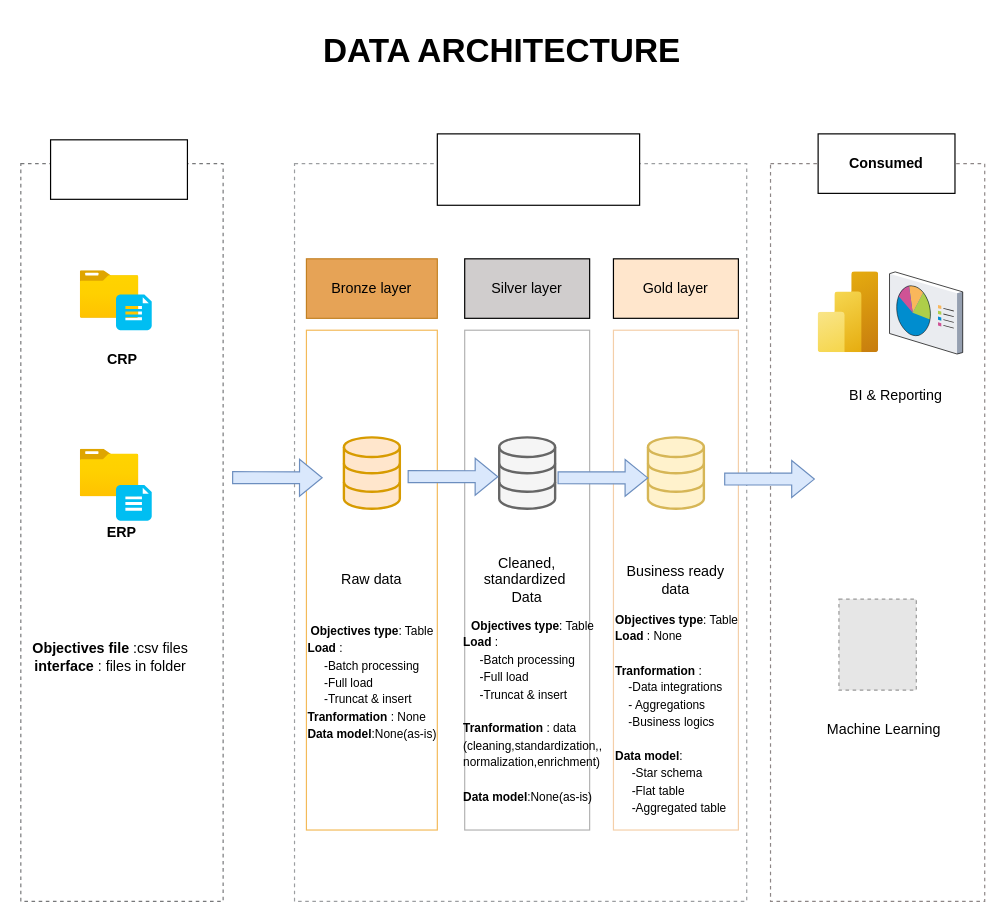
Some shapes in this 1006 by 922 pixel diagram are drawn without their labels. Grey dashed boxes stand in for pictures. Here are the shapes that lost their labels. From the top down, the centre of each, then its label:
(118,169): Sources
(538,169): Data Warehouse
